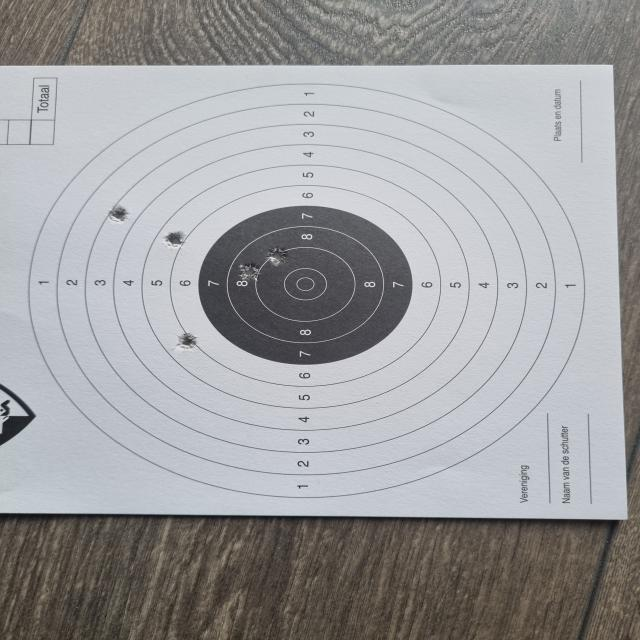10: (264, 246, 289, 266), (237, 262, 261, 282)
4: (108, 205, 130, 222)
7: (162, 232, 186, 248), (176, 333, 198, 349)
Black Contour: (198, 206, 412, 366)
Target: (28, 81, 586, 498)
